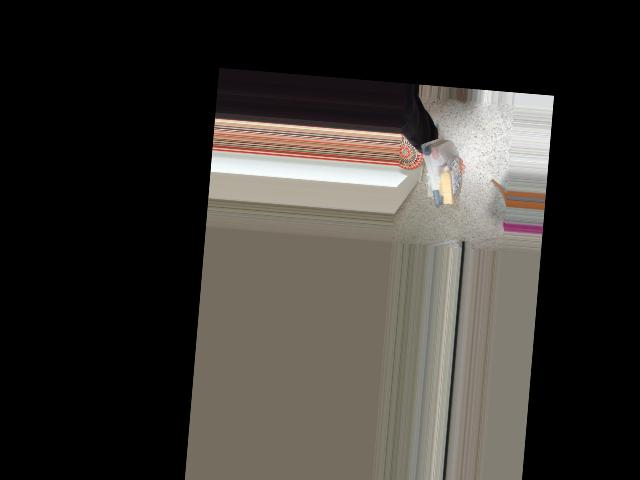cheese: (410, 137, 465, 211)
